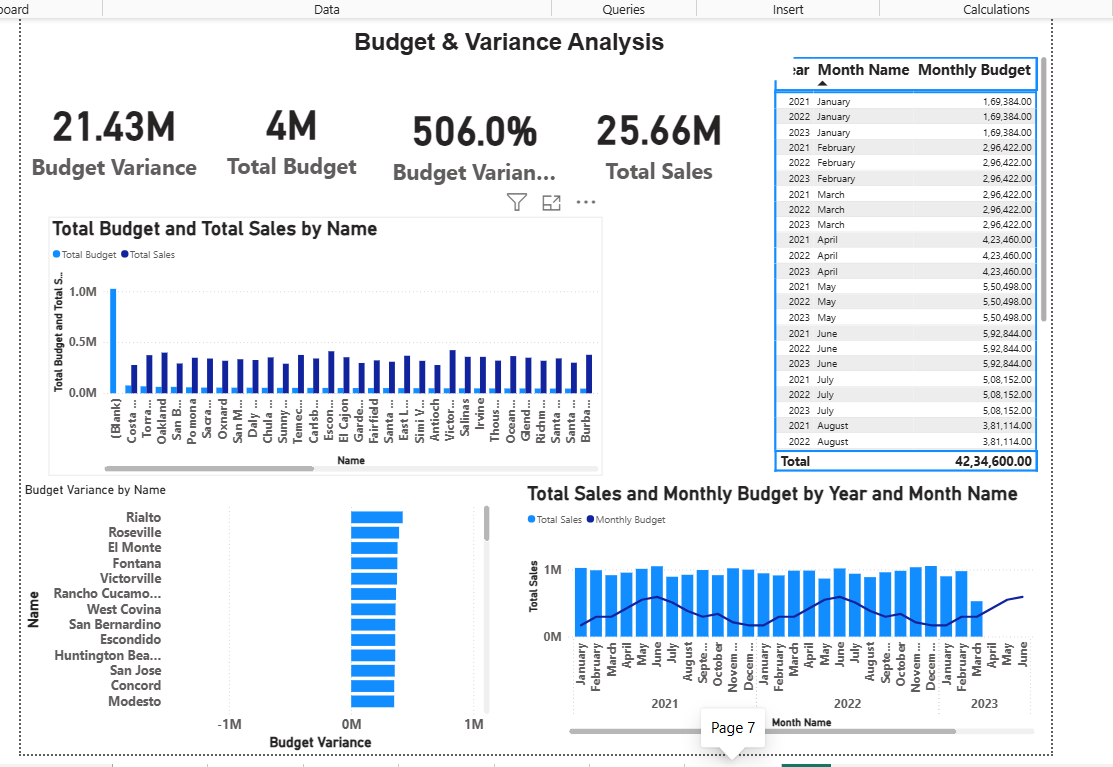

The page's visual inventory and layout, read from the dashboard file:
{"tool":"powerbi","page":{"name":"Page 7","canvas":[1400,1000],"ordinal":6},"visuals":[{"type":"card","fields":{"Values":["Fact_Sales.Total Sales"]},"box":[732,78.1,270,174.9],"z":0},{"type":"card","fields":{"Values":["Fact_Budget.Total Budget"]},"box":[253.1,76.4,229.3,164.7],"z":1000},{"type":"card","fields":{"Values":["Fact_Budget.Budget Variance"]},"box":[0,84.9,253.1,149.5],"z":2000},{"type":"card","fields":{"Values":["Fact_Budget.Budget Variance %"]},"box":[499.3,84.9,232.7,163],"z":3000},{"type":"clusteredColumnChart","fields":{"Category":["Dim_Location.Name"],"Y":["Fact_Budget.Total Budget","Fact_Sales.Total Sales"]},"box":[37.4,270,752.4,351.6],"z":4000},{"type":"barChart","fields":{"Category":["Dim_Location.Name"],"Y":["Fact_Budget.Budget Variance"]},"box":[0,630.1,642,370.2],"z":5000},{"type":"lineClusteredColumnComboChart","fields":{"Category":["Dim_Date.Year","Dim_Date.Month Name"],"Y":["Fact_Sales.Total Sales"],"Y2":["Fact_Budget.Monthly Budget"]},"box":[682.7,630.1,699.7,348.2],"z":6000},{"type":"tableEx","fields":{"Values":["Dim_Date.Year","Dim_Date.Month Name","Fact_Budget.Monthly Budget"]},"box":[1017.3,47.6,382.1,574.1],"z":7000},{"type":"textbox","box":[276.8,10.2,772.8,74.7],"z":7001}]}

Visuals, with their boxes on the page's 1400x1000 design canvas (x1, y1, x2, y2). These are canvas units, not pixel positions in the 1113x767 screenshot, which may show the page scaled, cropped or inside an application window:
card - Fact_Sales.Total Sales: crop(732, 78, 1002, 253)
card - Fact_Budget.Total Budget: crop(253, 76, 482, 241)
card - Fact_Budget.Budget Variance: crop(0, 85, 253, 234)
card - Fact_Budget.Budget Variance %: crop(499, 85, 732, 248)
clusteredColumnChart - Dim_Location.Name x Fact_Budget.Total Budget: crop(37, 270, 790, 622)
barChart - Dim_Location.Name x Fact_Budget.Budget Variance: crop(0, 630, 642, 1000)
lineClusteredColumnComboChart - Dim_Date.Year x Dim_Date.Month Name: crop(683, 630, 1382, 978)
tableEx - Dim_Date.Year x Dim_Date.Month Name: crop(1017, 48, 1399, 622)
textbox: crop(277, 10, 1050, 85)
